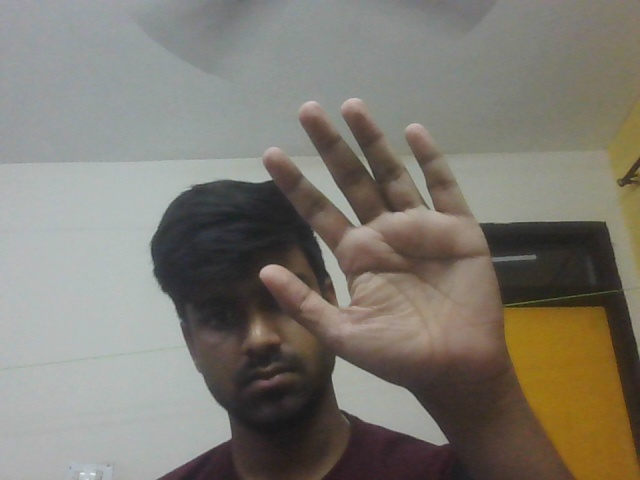hello: (251, 93, 561, 416)
